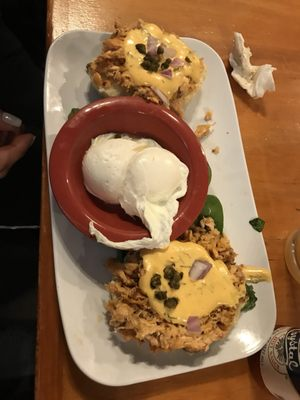curry: (29, 0, 299, 347)
